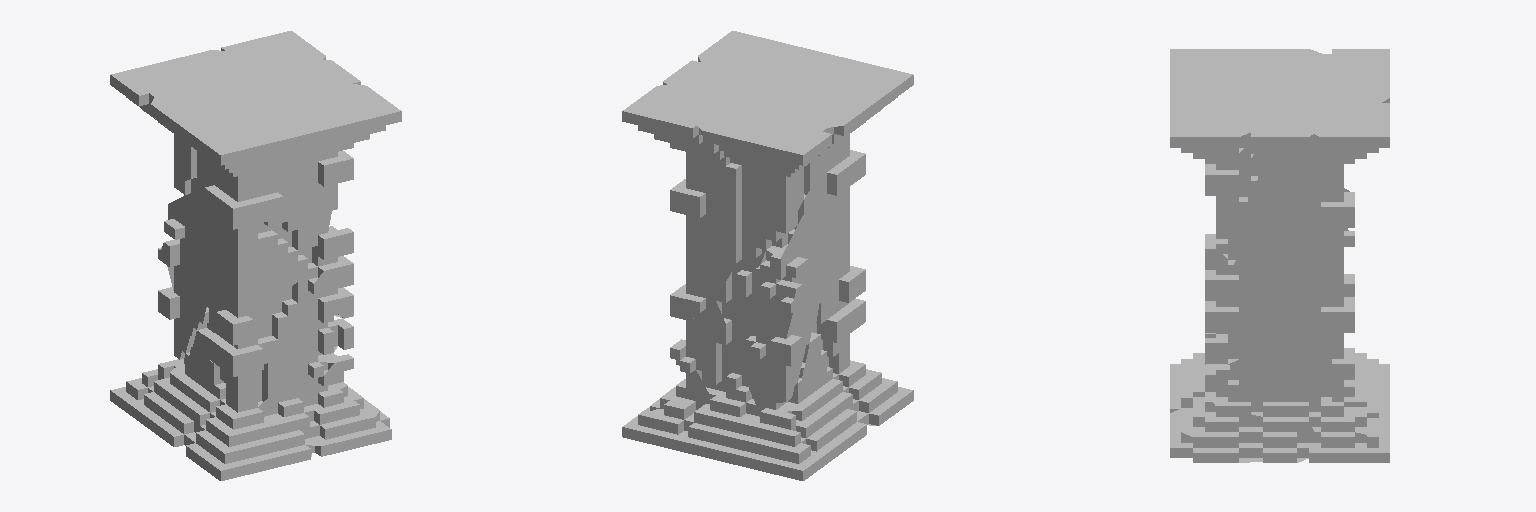
The model's file is Pillar_Int_Smooth_Cracked.obj.
3 views of the same model, side by side, from view 1: azimuth 30°, elevation 25°; view 2: azimuth 150°, elevation 25°; view 3: azimuth 270°, elevation 25° (orthographic).
Parts seen in each view (by area): view 1: Pillar_Int_Smooth_Cracked_Pillar_Int_Smooth_Cracked.001; view 2: Pillar_Int_Smooth_Cracked_Pillar_Int_Smooth_Cracked.001; view 3: Pillar_Int_Smooth_Cracked_Pillar_Int_Smooth_Cracked.001.
Part boxes in pixels (left/top/right/bottom): Pillar_Int_Smooth_Cracked_Pillar_Int_Smooth_Cracked.001: left=110, top=31, right=401, bottom=480; Pillar_Int_Smooth_Cracked_Pillar_Int_Smooth_Cracked.001: left=622, top=31, right=913, bottom=480; Pillar_Int_Smooth_Cracked_Pillar_Int_Smooth_Cracked.001: left=1170, top=49, right=1389, bottom=462.
Bounding box in the file's own units: 1.8 × 3.1 × 1.9.